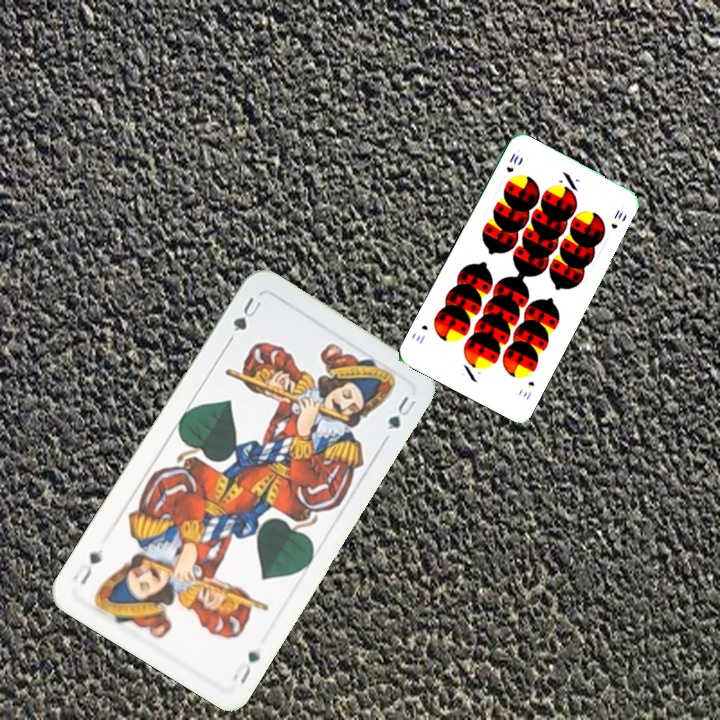GU: (229, 293, 264, 335), (228, 647, 263, 687)
S10: (502, 149, 522, 175), (519, 377, 537, 403)
